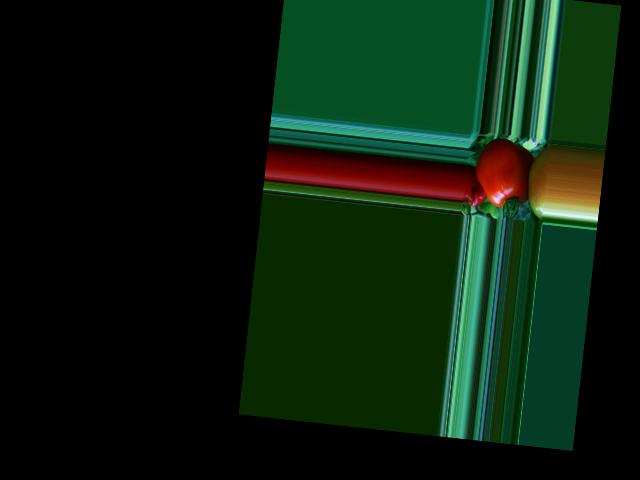tomato: (472, 136, 533, 210)
